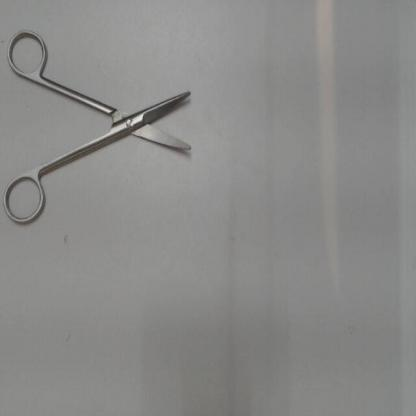Curved Mayo Scissors: (2, 25, 200, 232)
